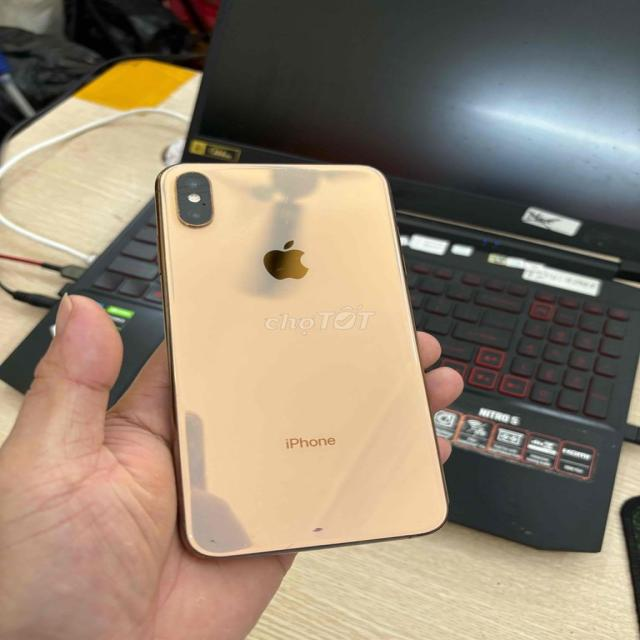gen_x_xs: (132, 138, 477, 578)
